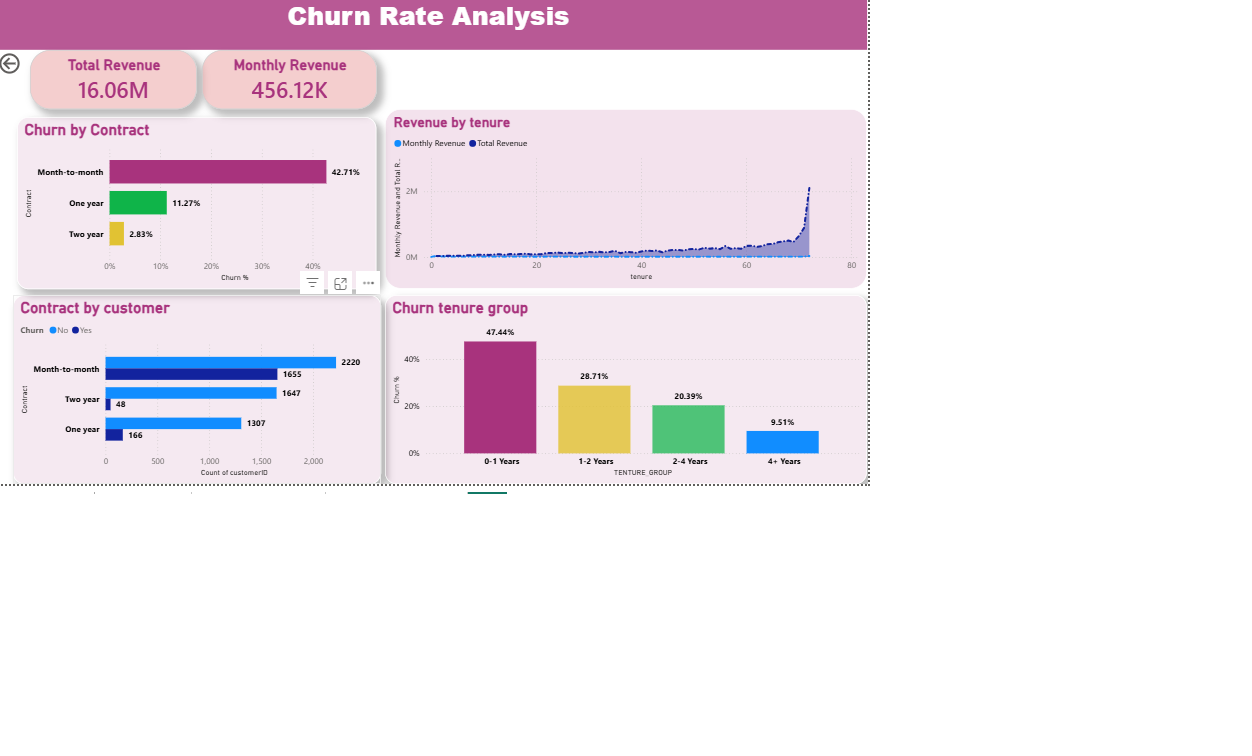

The page's visual inventory and layout, read from the dashboard file:
{"tool":"powerbi","page":{"name":"churn rate analysis","canvas":[1280,720],"ordinal":2},"visuals":[{"type":"actionButton","box":[0,82.3,99.9,39.7],"z":0},{"type":"lineChart","title":"Revenue by tenure","fields":{"Y":["WA_Fn-UseC_-Telco-Customer-Churn.Monthly Revenue","WA_Fn-UseC_-Telco-Customer-Churn.Total Revenue"],"Category":["WA_Fn-UseC_-Telco-Customer-Churn.tenure"]},"box":[571.6,169,708.2,264.5],"z":1000},{"type":"cardVisual","title":"Total Revenue","fields":{"Data":["WA_Fn-UseC_-Telco-Customer-Churn.Total Revenue"]},"box":[50,82.3,245.4,86.7],"z":2000},{"type":"cardVisual","title":"Monthly Revenue","fields":{"Data":["Sum(WA_Fn-UseC_-Telco-Customer-Churn.MonthlyCharges)"]},"box":[302.7,82.3,257.1,86.7],"z":3000},{"type":"clusteredBarChart","title":"Churn by Contract","fields":{"Y":["WA_Fn-UseC_-Telco-Customer-Churn.Churn %"],"Category":["WA_Fn-UseC_-Telco-Customer-Churn.Contract"]},"box":[30.9,180.7,527.5,252.7],"z":4000},{"type":"clusteredBarChart","title":" Contract by customer","fields":{"Category":["WA_Fn-UseC_-Telco-Customer-Churn.Contract"],"Series":["WA_Fn-UseC_-Telco-Customer-Churn.Churn"],"Y":["CountNonNull(WA_Fn-UseC_-Telco-Customer-Churn.customerID)"]},"box":[25,442.3,540.7,277.7],"z":5000},{"type":"clusteredColumnChart","title":"Churn tenure group","fields":{"Category":["WA_Fn-UseC_-Telco-Customer-Churn.TENTURE_GROUP"],"Y":["WA_Fn-UseC_-Telco-Customer-Churn.Churn %"]},"box":[571.6,442.3,708.2,277.7],"z":6000},{"type":"textbox","box":[0,0,1279.8,82.3],"z":7000}]}

Visuals, with their boxes on the page's 1280x720 design canvas (x1, y1, x2, y2). These are canvas units, not pixel positions in the 1252x756 screenshot, which may show the page scaled, cropped or inside an application window:
actionButton: rect(0, 82, 100, 122)
"Revenue by tenure" lineChart: rect(572, 169, 1280, 434)
"Total Revenue" cardVisual: rect(50, 82, 295, 169)
"Monthly Revenue" cardVisual: rect(303, 82, 560, 169)
"Churn by Contract" clusteredBarChart: rect(31, 181, 558, 433)
" Contract by customer" clusteredBarChart: rect(25, 442, 566, 720)
"Churn tenure group" clusteredColumnChart: rect(572, 442, 1280, 720)
textbox: rect(0, 0, 1280, 82)
